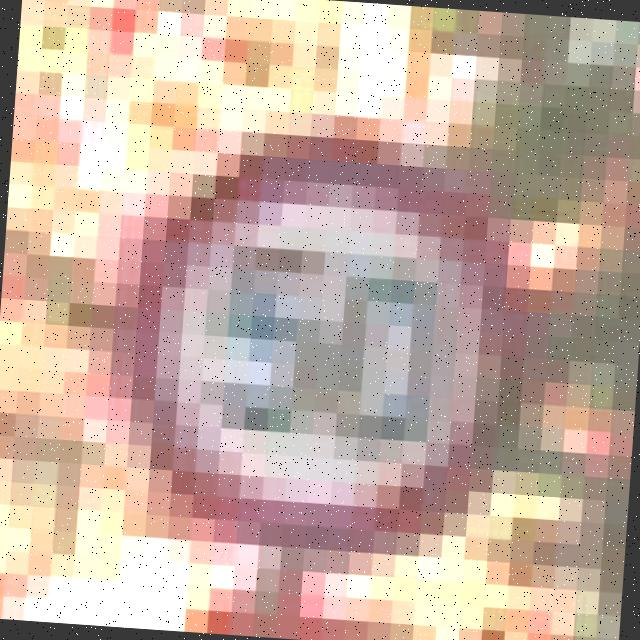Ograniczenie predkosci do 50: (132, 144, 516, 545)
